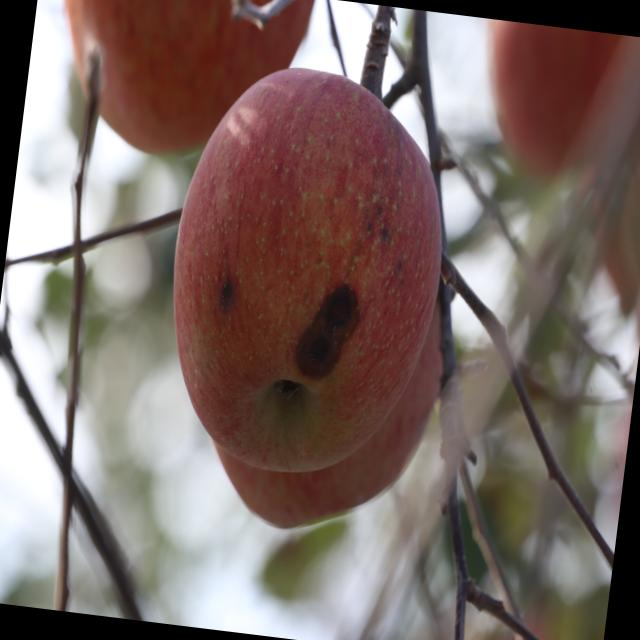rotten: (143, 46, 476, 503)
